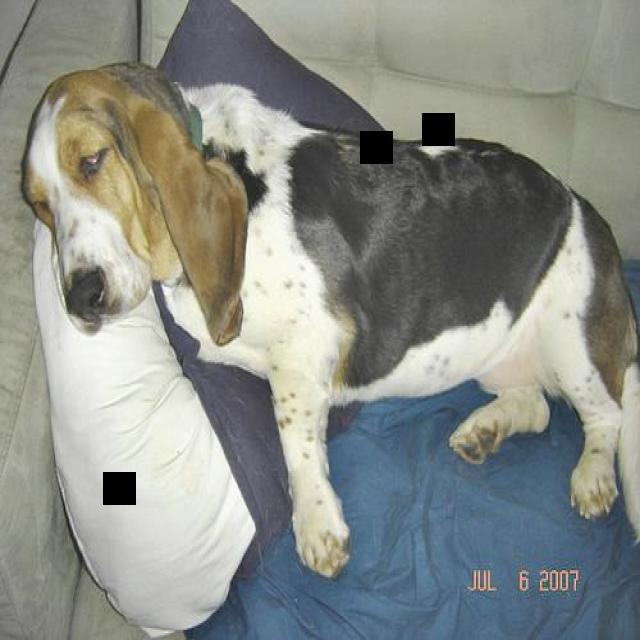adult_dog: (19, 55, 640, 584)
